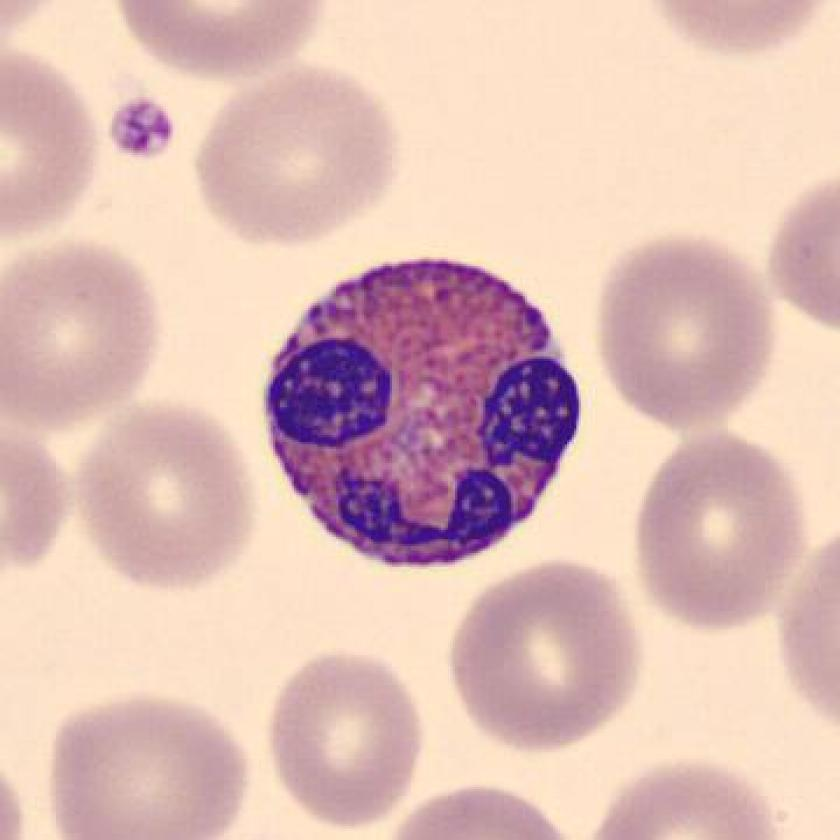eosinophil: (246, 240, 594, 580)
